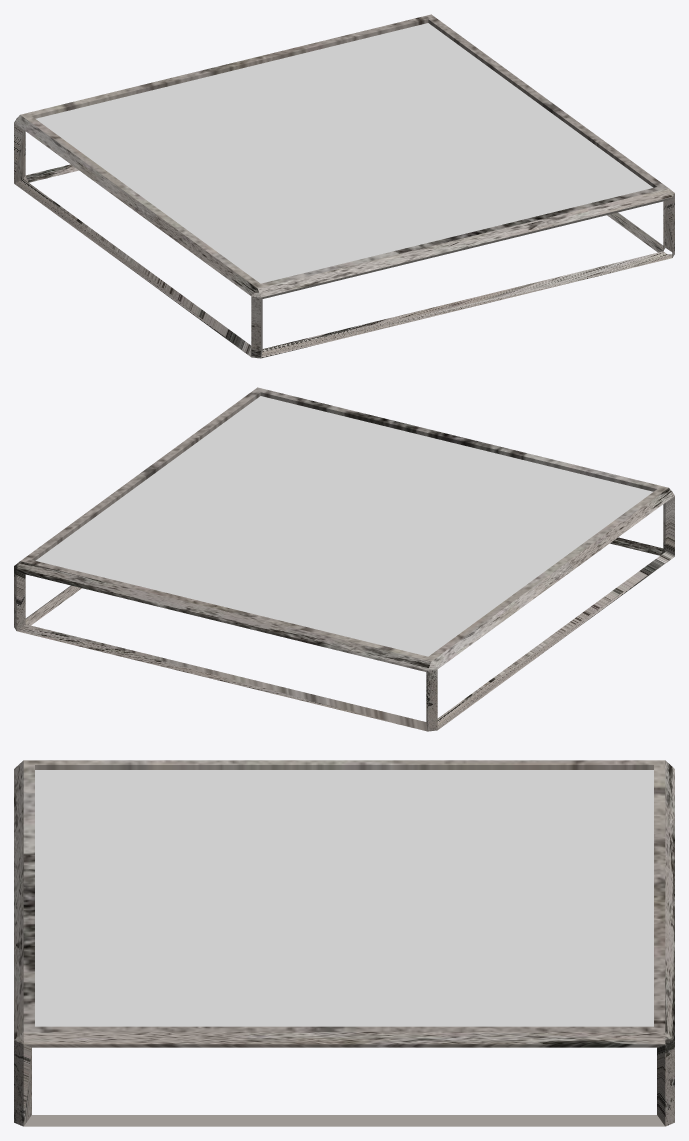
Rendered from Table-transformed.glb.
3 renders of one model, top to bottom at view 1: azimuth 30°, elevation 25°; view 2: azimuth 150°, elevation 25°; view 3: azimuth 270°, elevation 25°, orthographic. The views are drawn at different scales.
Visible parts, largest first — view 1: Cube.001, Cube; view 2: Cube.001, Cube; view 3: Cube.001, Cube.
Boxes of the visible parts, <box> form: Cube.001: <box>35,23,653,283</box>; Cube: <box>14,14,674,358</box>; Cube.001: <box>35,396,653,656</box>; Cube: <box>14,387,674,731</box>; Cube.001: <box>35,770,653,1026</box>; Cube: <box>14,760,674,1126</box>.
Size of the model in its own units: 12 by 1.83 by 12.
2 materials, 1 textured.
